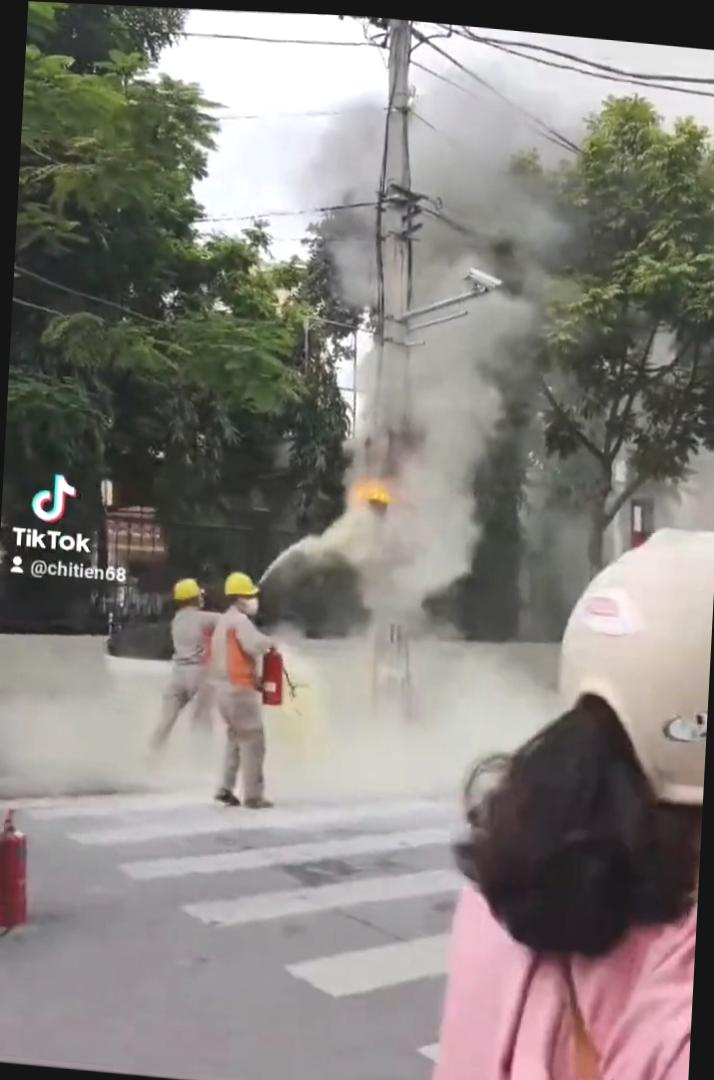FireExtinguisher: (0, 812, 54, 939), (254, 639, 298, 712)
not: (424, 763, 702, 1080), (78, 501, 168, 589), (350, 460, 398, 516)
